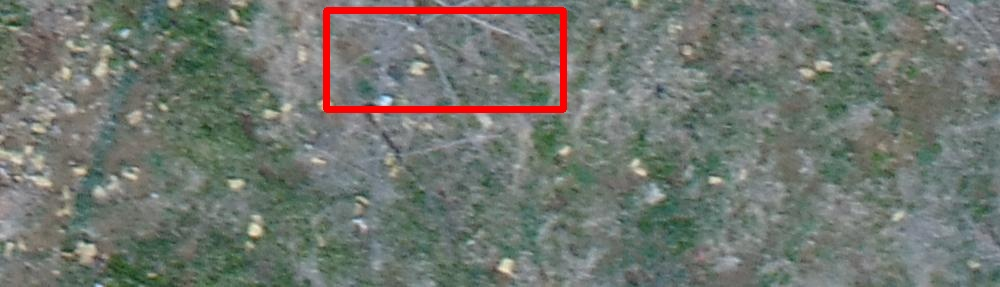apple: (326, 10, 563, 109)
